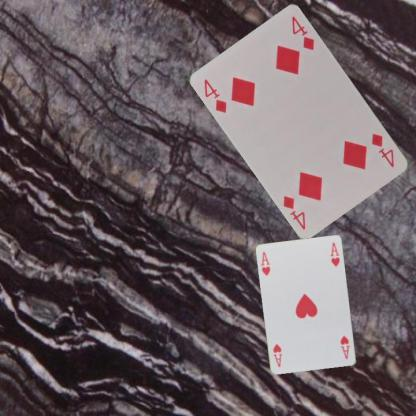4d: (202, 76, 229, 115), (369, 130, 396, 168)
Ah: (258, 249, 272, 277), (338, 334, 351, 361)
